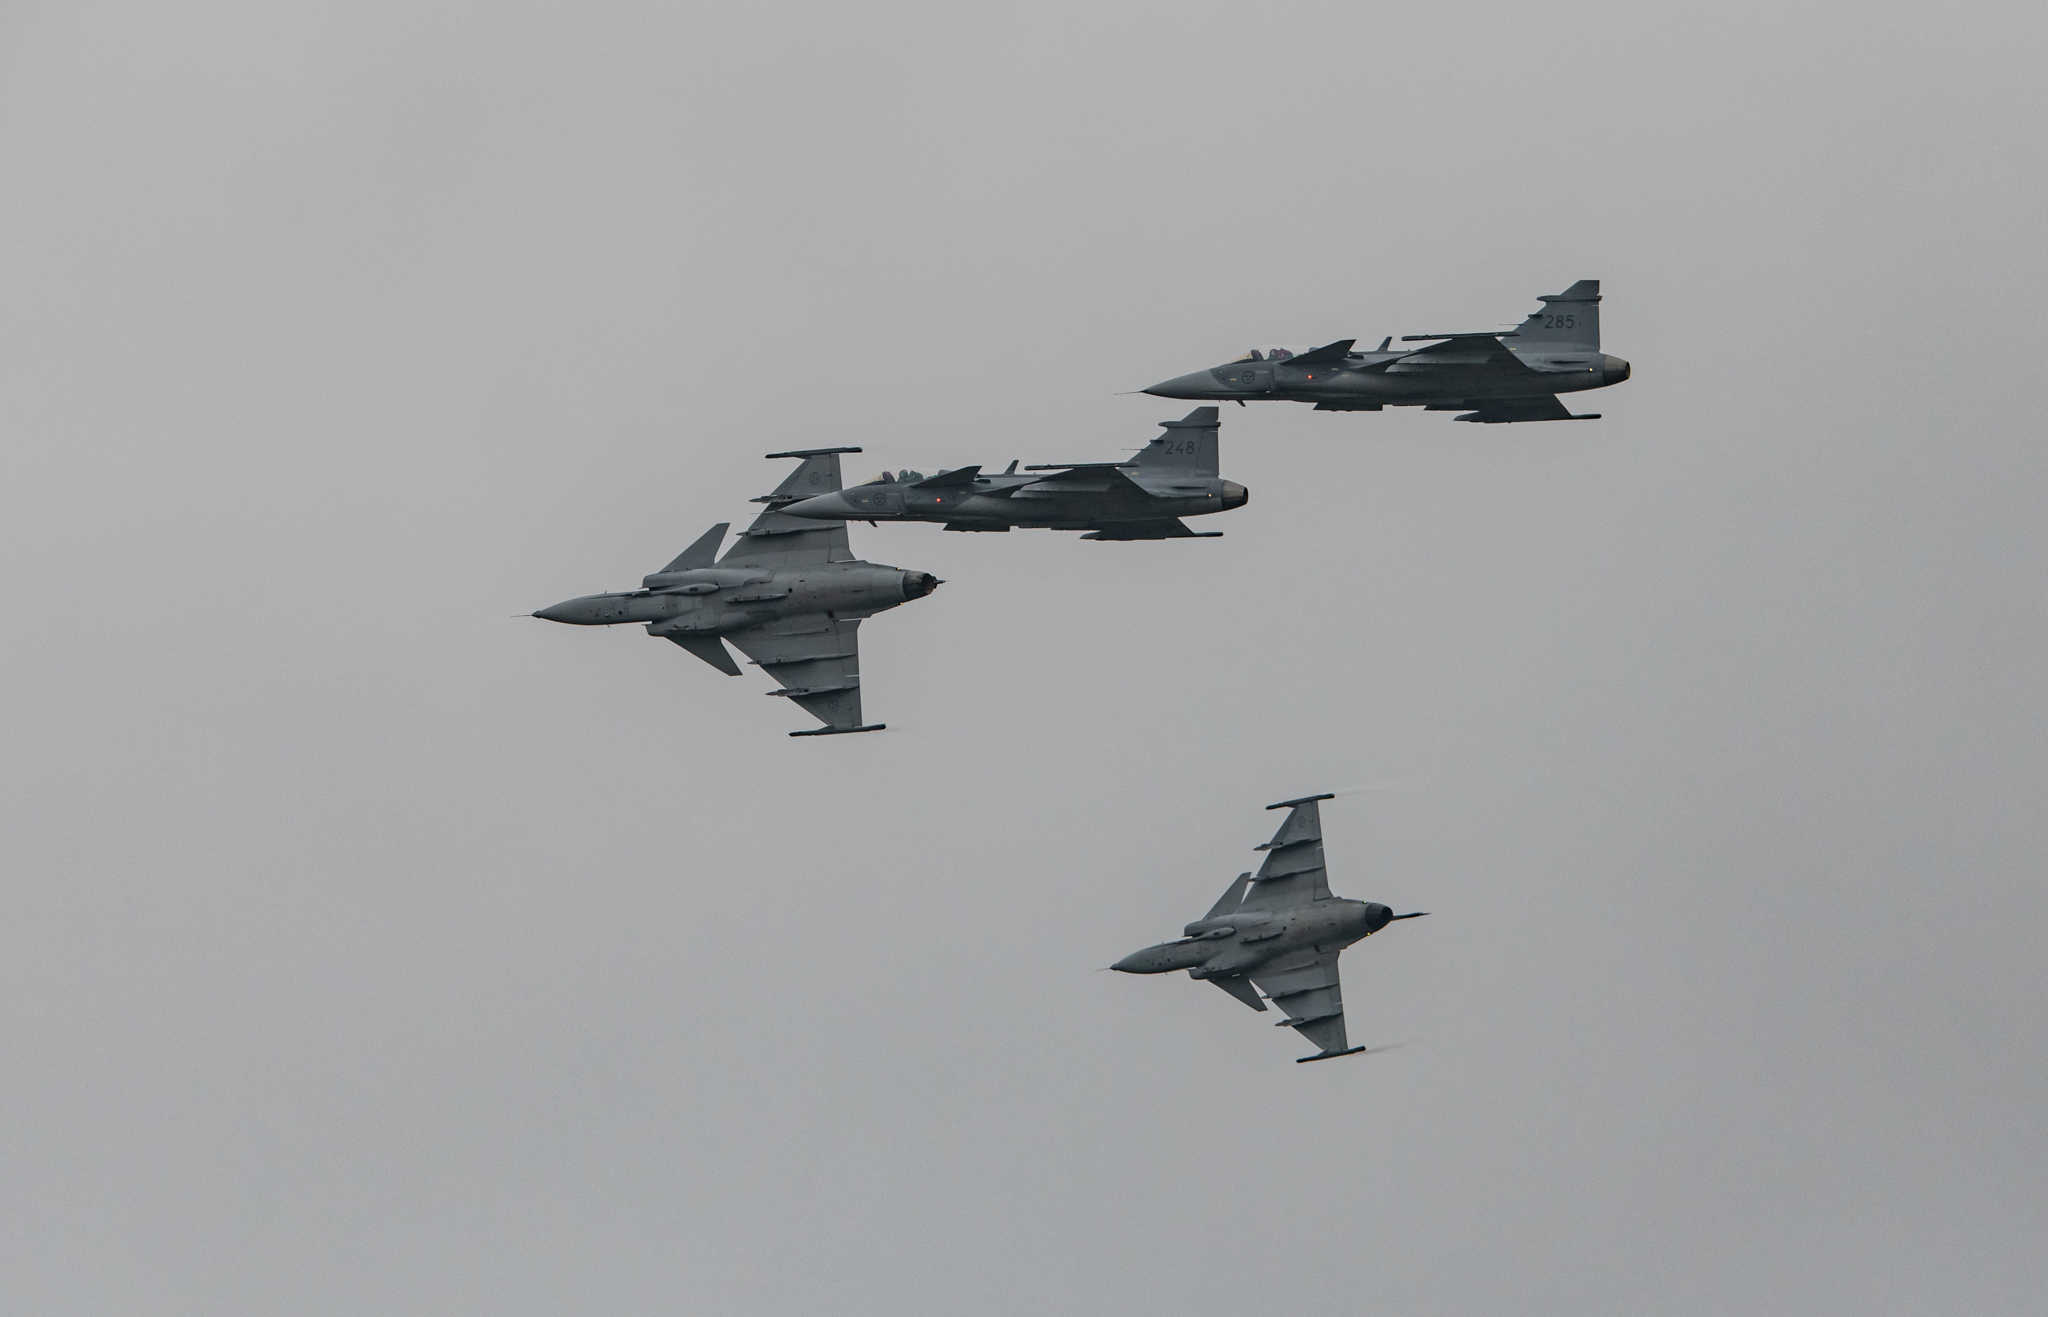JAS39: (511, 446, 952, 738), (1094, 791, 1432, 1063), (1114, 279, 1632, 424), (749, 406, 1249, 542)
